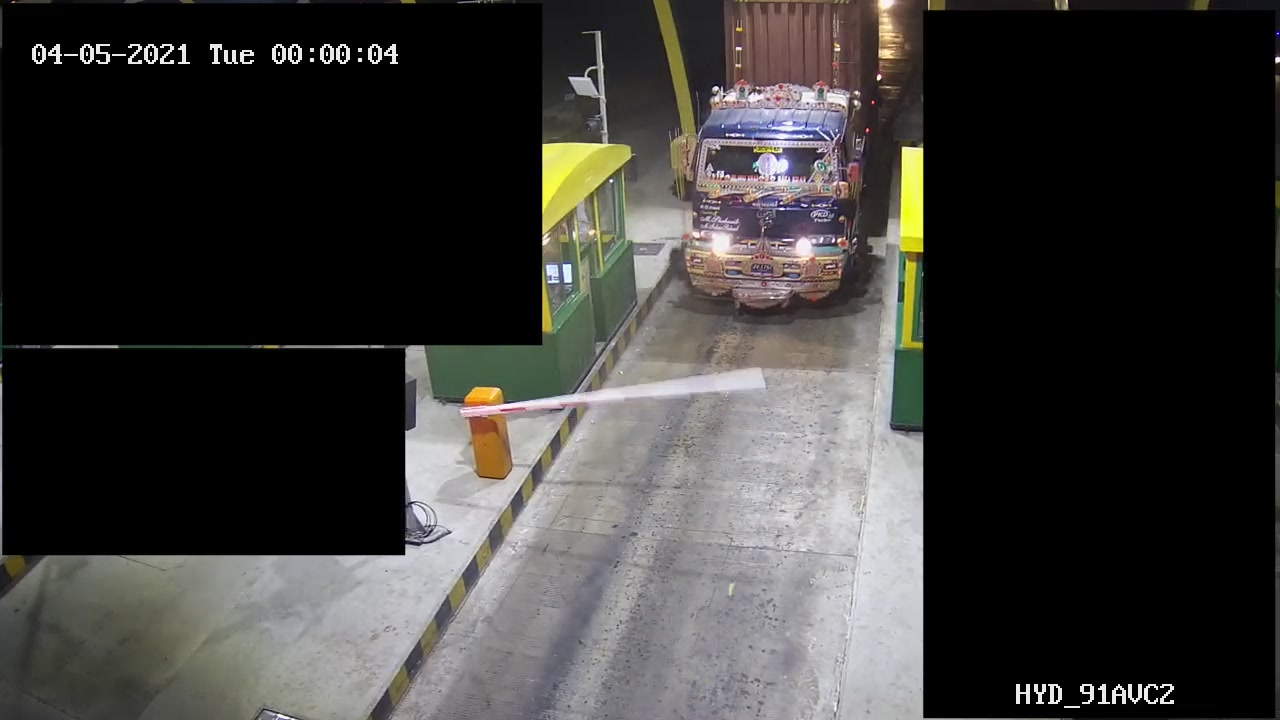F6: (672, 1, 887, 332)
